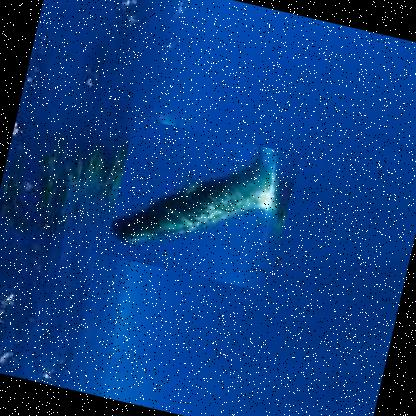sperm_whale: (102, 117, 300, 294)
